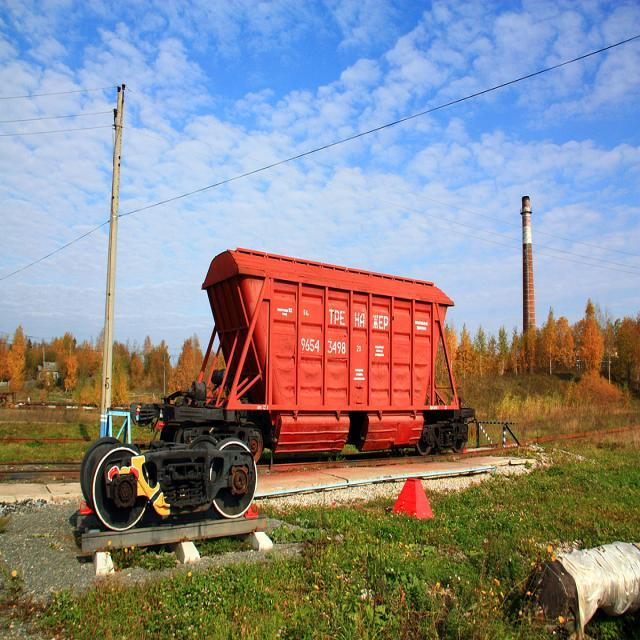wagon: (298, 332, 348, 360)
